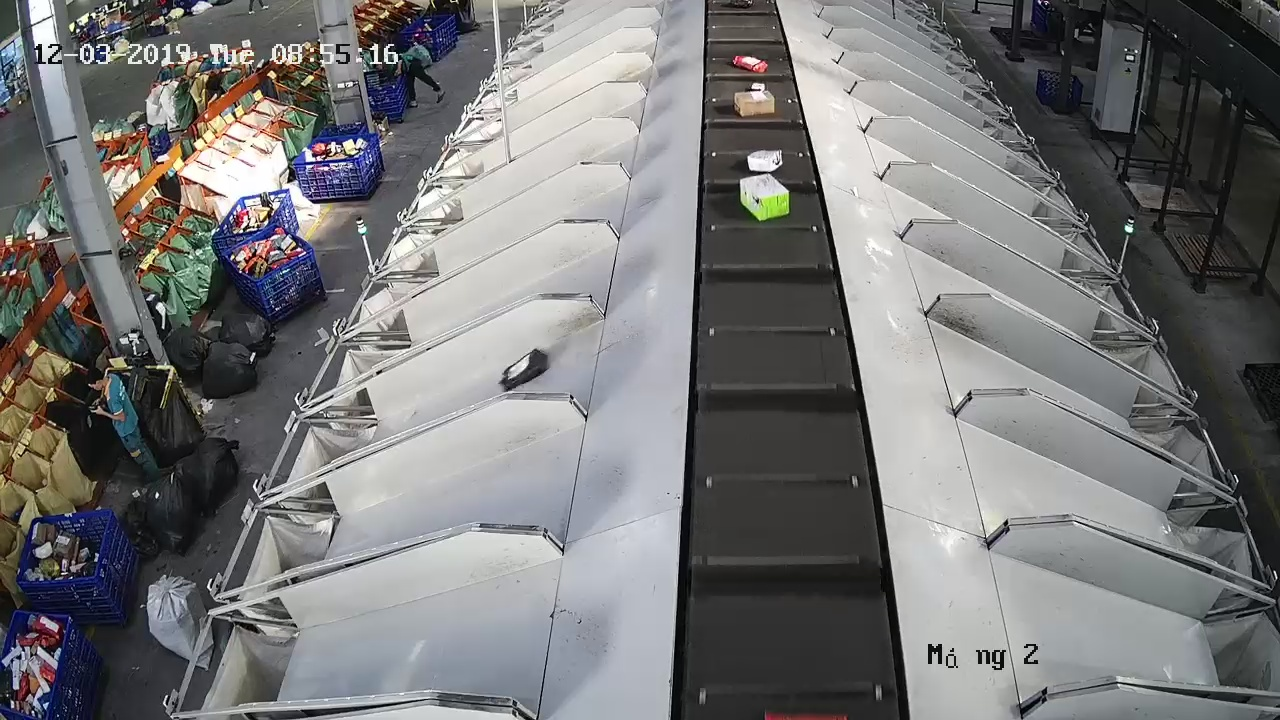parcel: (737, 173, 791, 222), (496, 347, 548, 391), (745, 148, 784, 173)
